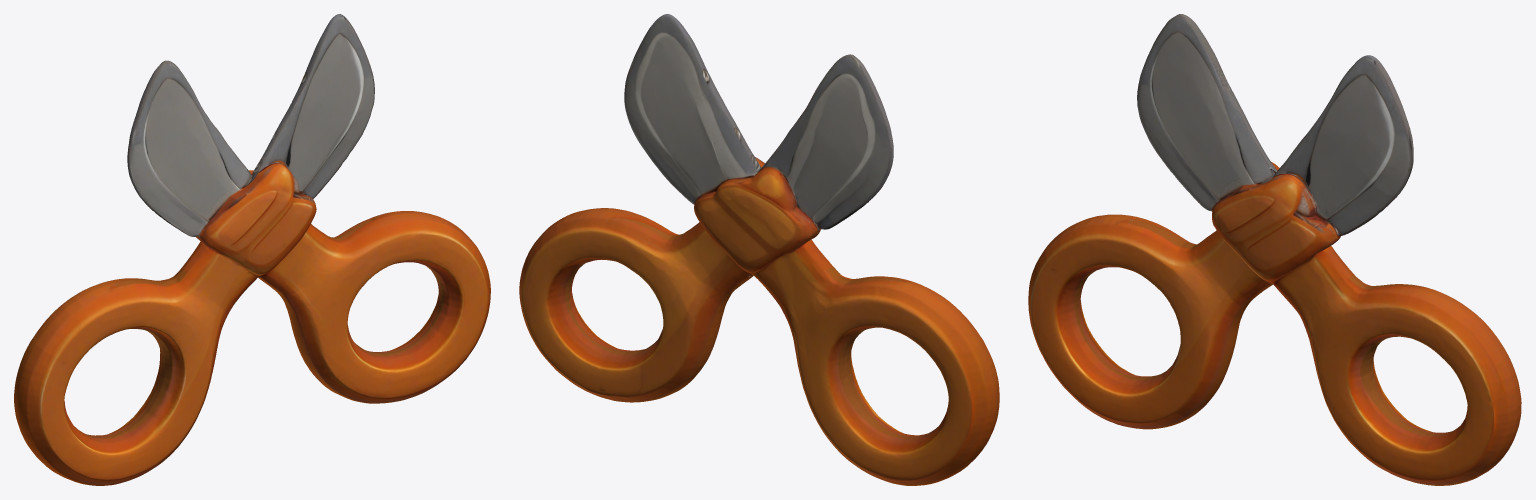
Rendered from scissor.glb.
3 views of the same model, side by side, from view 1: azimuth 30°, elevation 25°; view 2: azimuth 150°, elevation 25°; view 3: azimuth 330°, elevation 25° (orthographic). The views are drawn at different scales.
Bounding box in the file's own units: 2 × 1.67 × 0.2047.
Materials: 1 (1 with a texture image).
